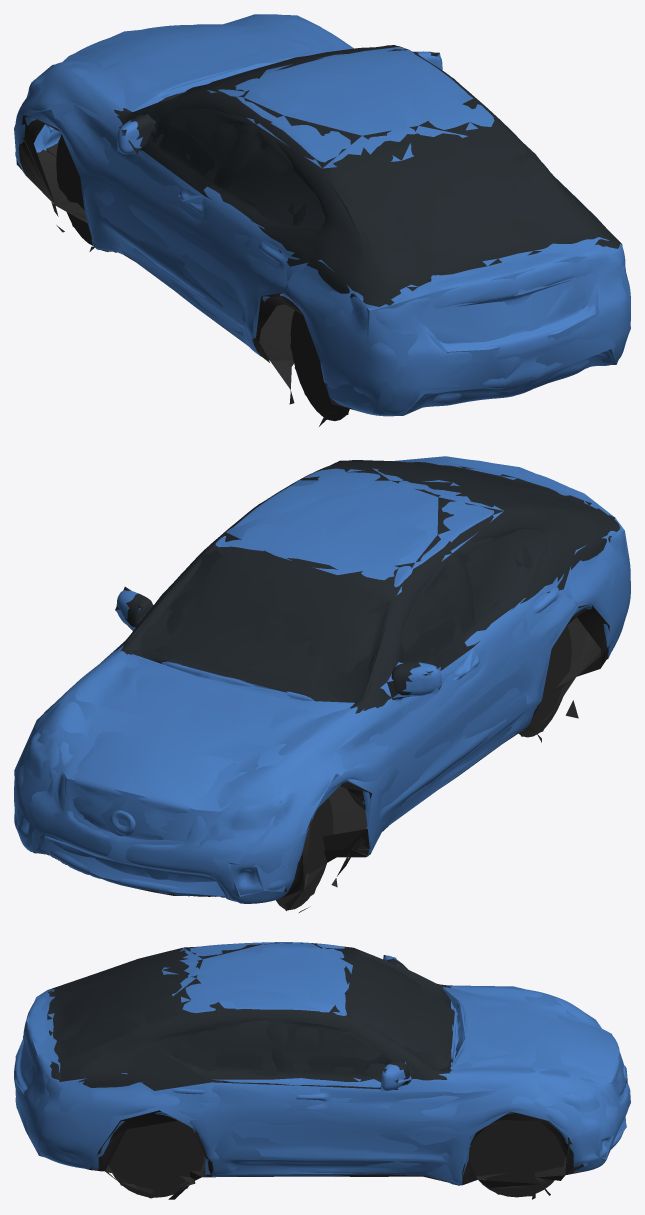
File: infiniti-m56.glb
3 renders of one model, top to bottom at view 1: azimuth 30°, elevation 25°; view 2: azimuth 150°, elevation 25°; view 3: azimuth 270°, elevation 25°, orthographic. The views are drawn at different scales.
Visible parts, largest first — view 1: body, far; view 2: body, far; view 3: body, far.
Boxes of the visible parts, x1,y1,x2,y2 form: body: (15, 14, 630, 424); far: (14, 14, 630, 426); body: (14, 458, 630, 912); far: (14, 456, 629, 910); body: (14, 942, 629, 1198); far: (15, 943, 630, 1199).
Size of the model in its own units: 2.33 by 1.7 by 5.07.
